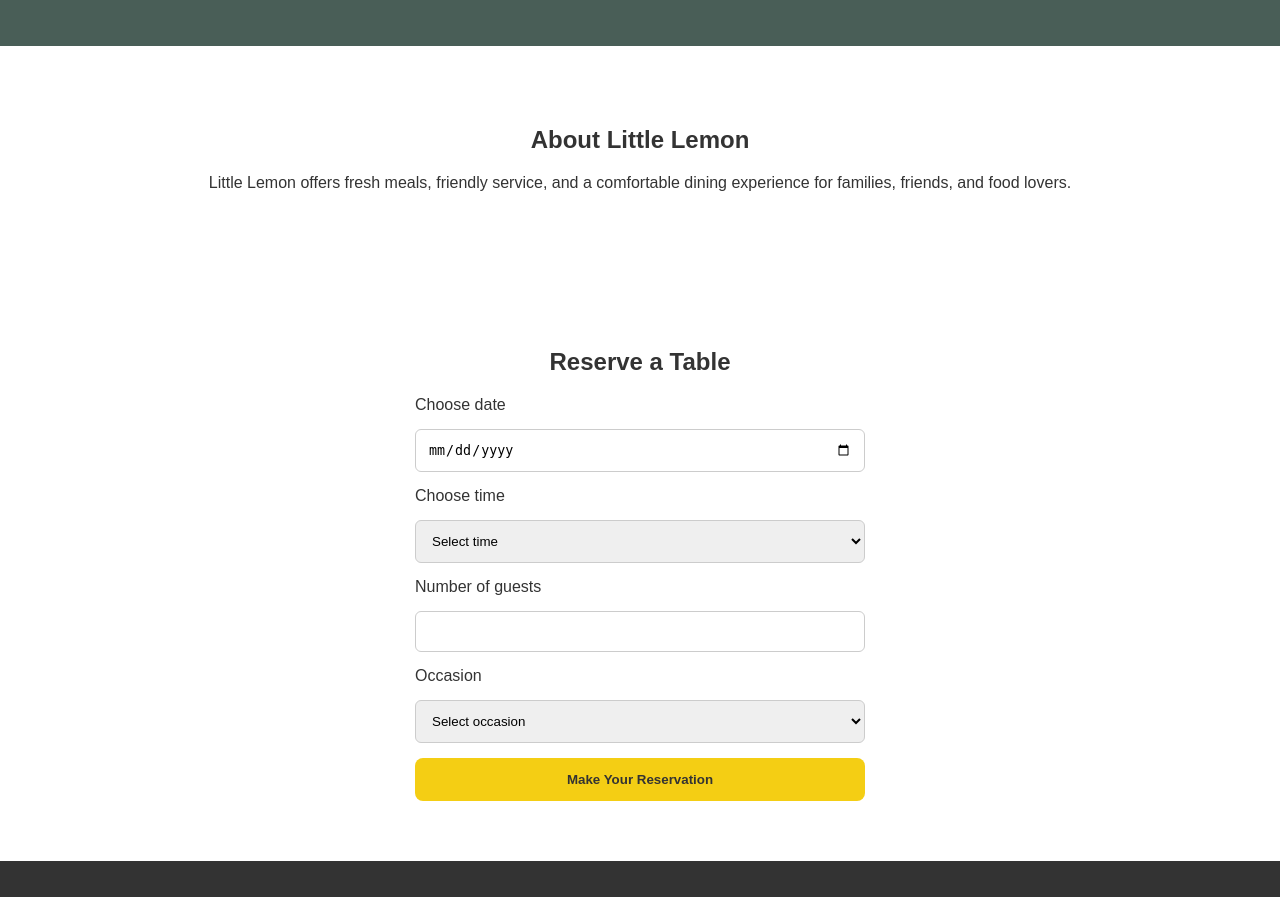
Test case: shows successful booking message
The width and height of the screenshot is (1280, 897).
(page scrolled)
Type "2026-10-10" into the date field labelled "Choose date" at x=640, y=450, box [415, 428, 865, 472]
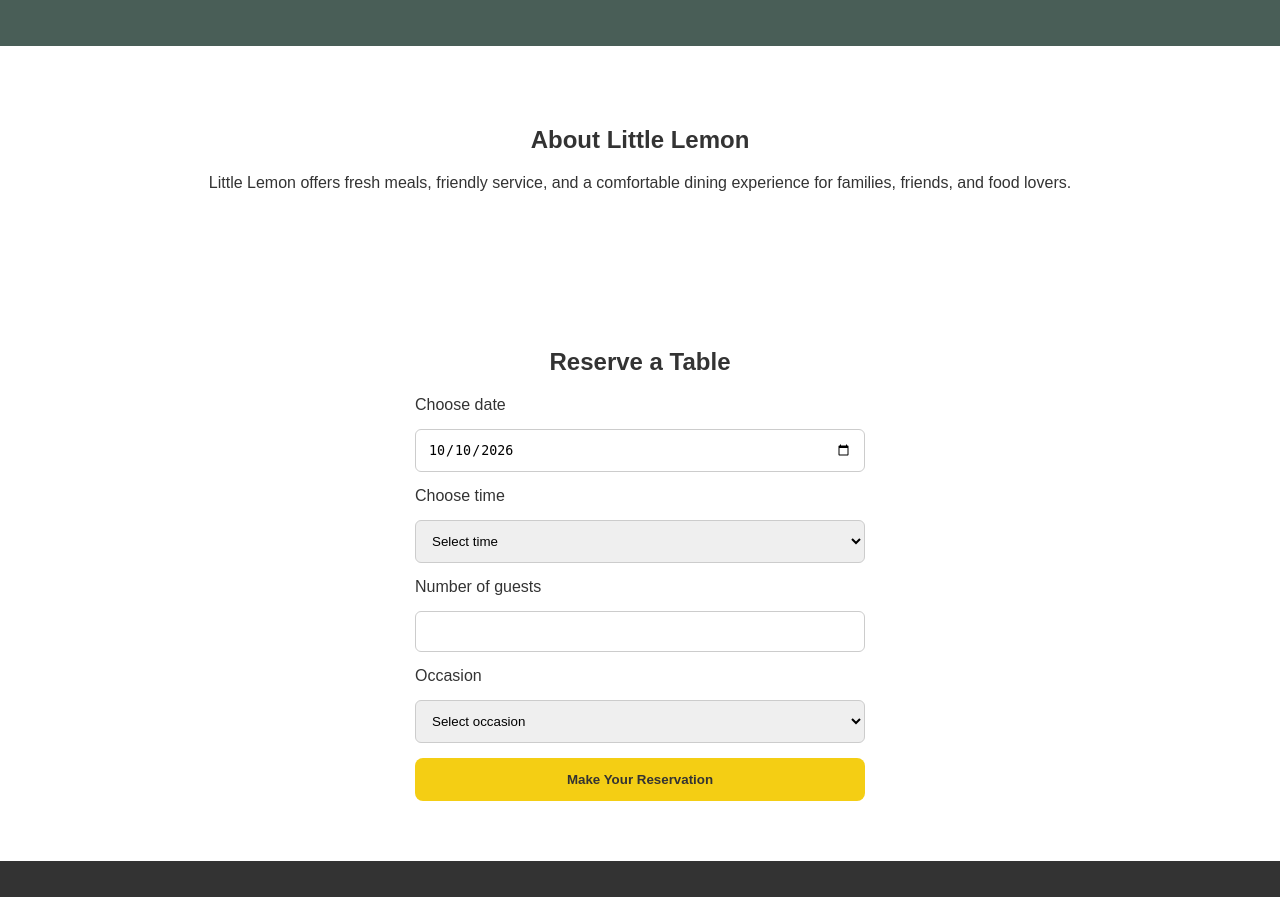
Select "18:00" in the dropdown labelled "Choose time" at x=640, y=541, box [415, 520, 865, 563]
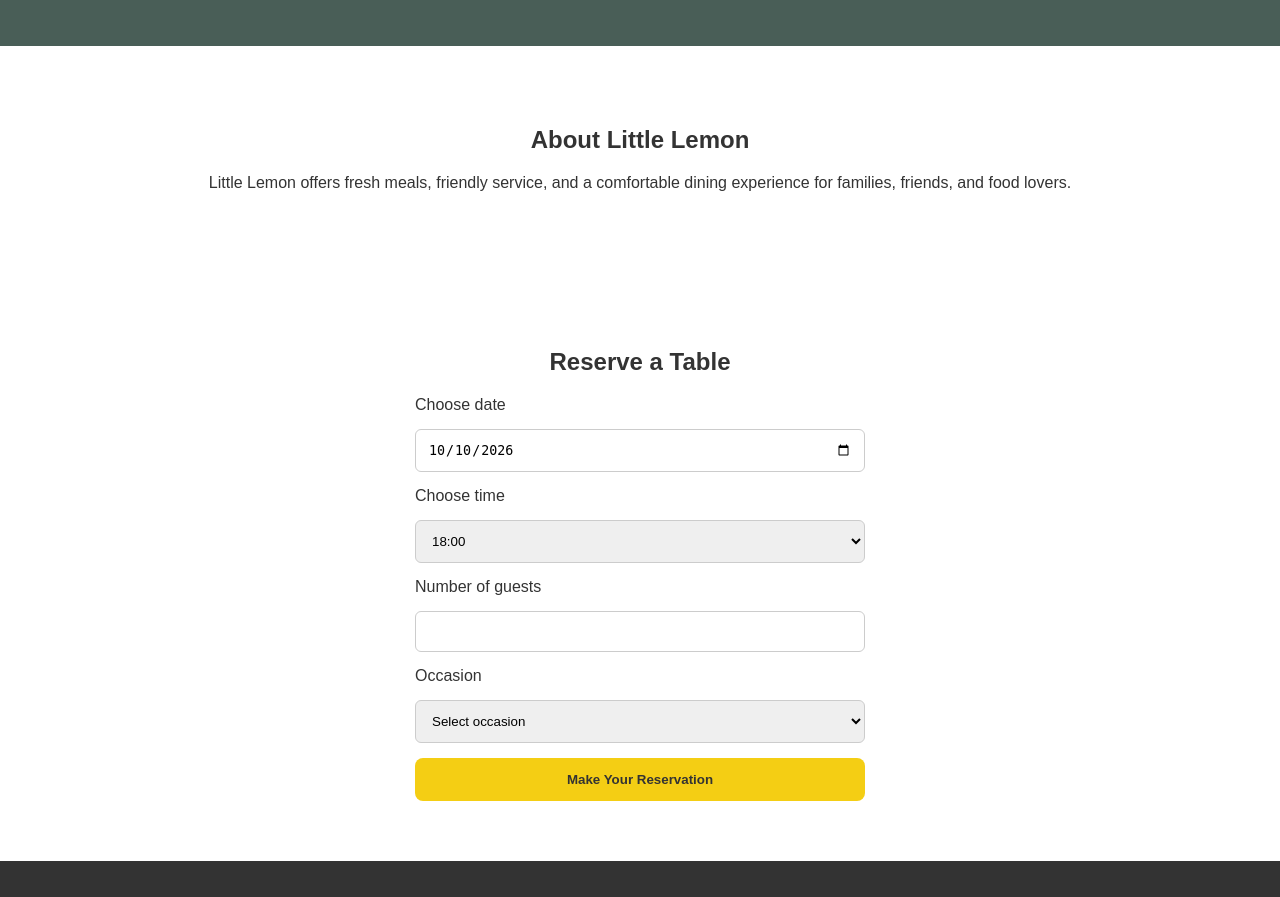
Type "4" into the number field labelled "Number of guests" at x=640, y=631, box [415, 611, 865, 652]
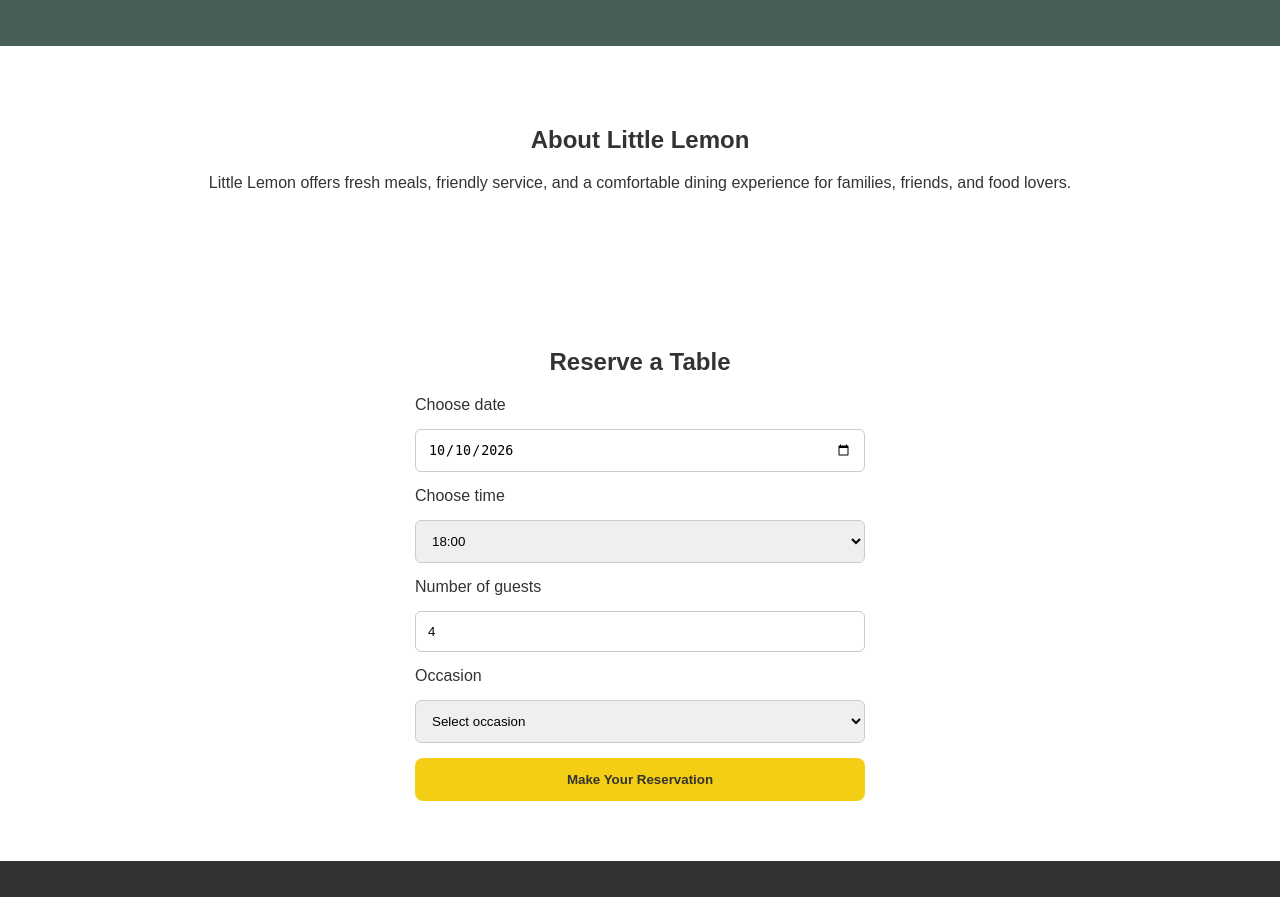
Select "Birthday" in the dropdown labelled "Occasion" at x=640, y=721, box [415, 700, 865, 743]
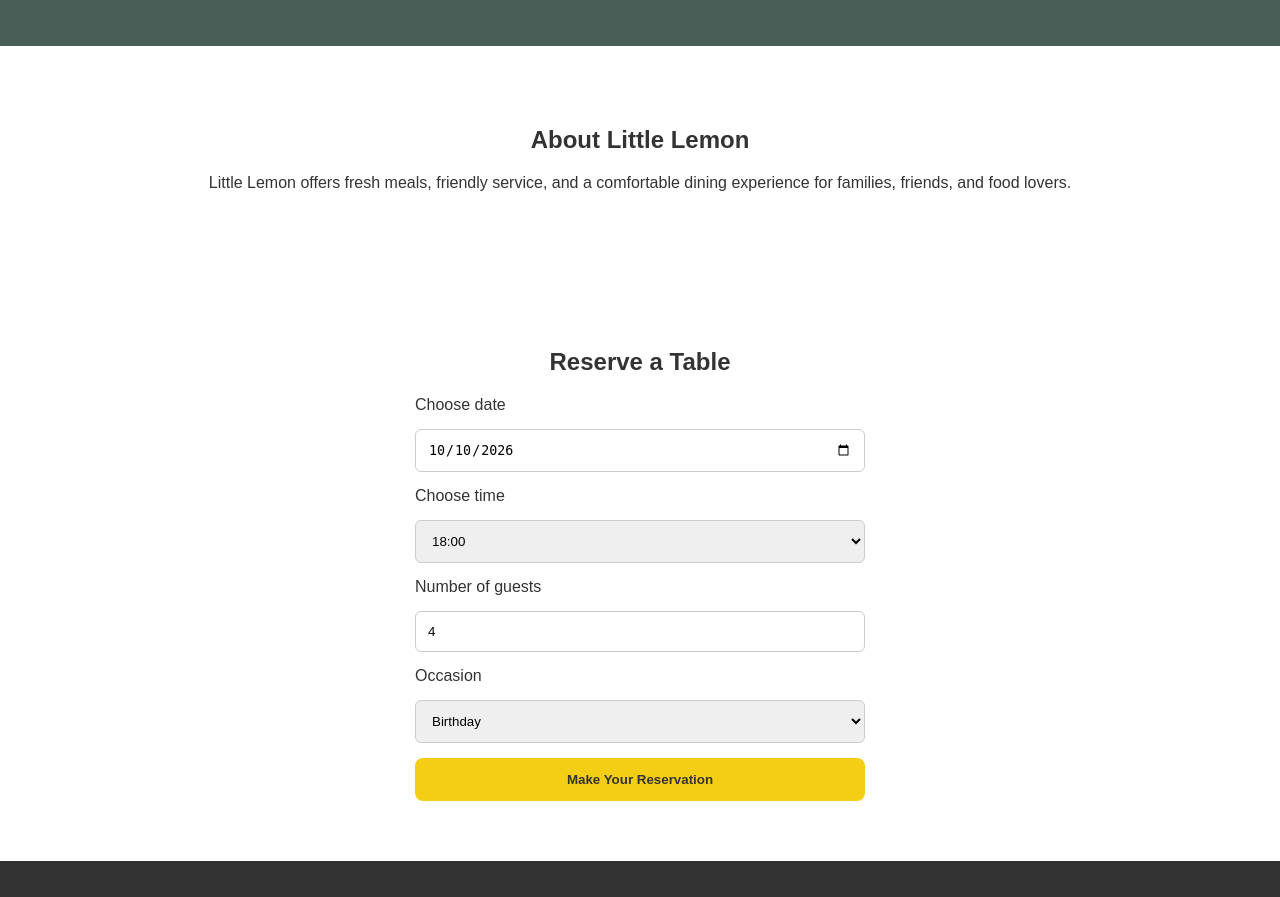
Click the button "Make Your Reservation" at x=640, y=779, box [415, 758, 865, 801]
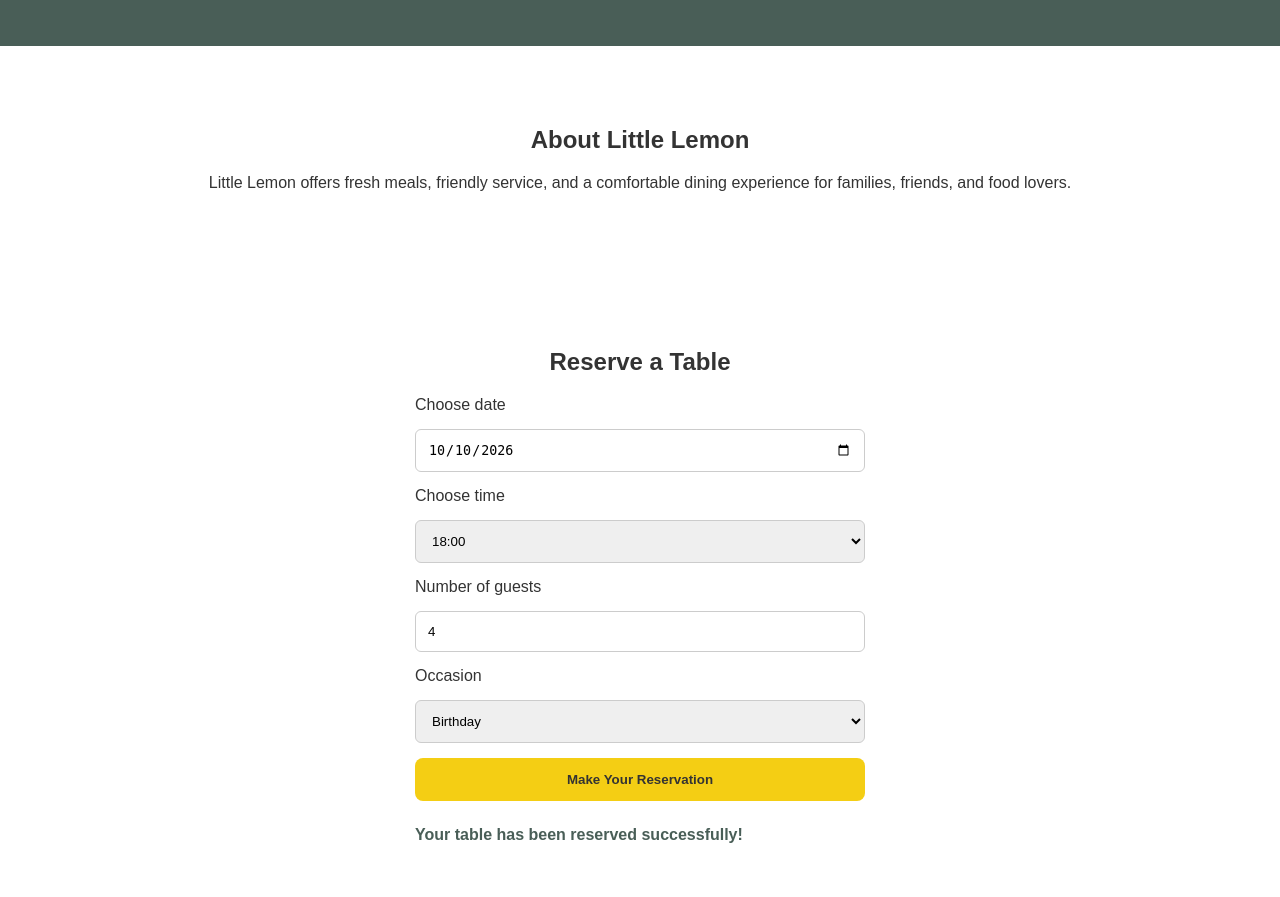
Expected: the text "Your table has been reserved successfully!" is shown, [415, 826, 743, 843]
